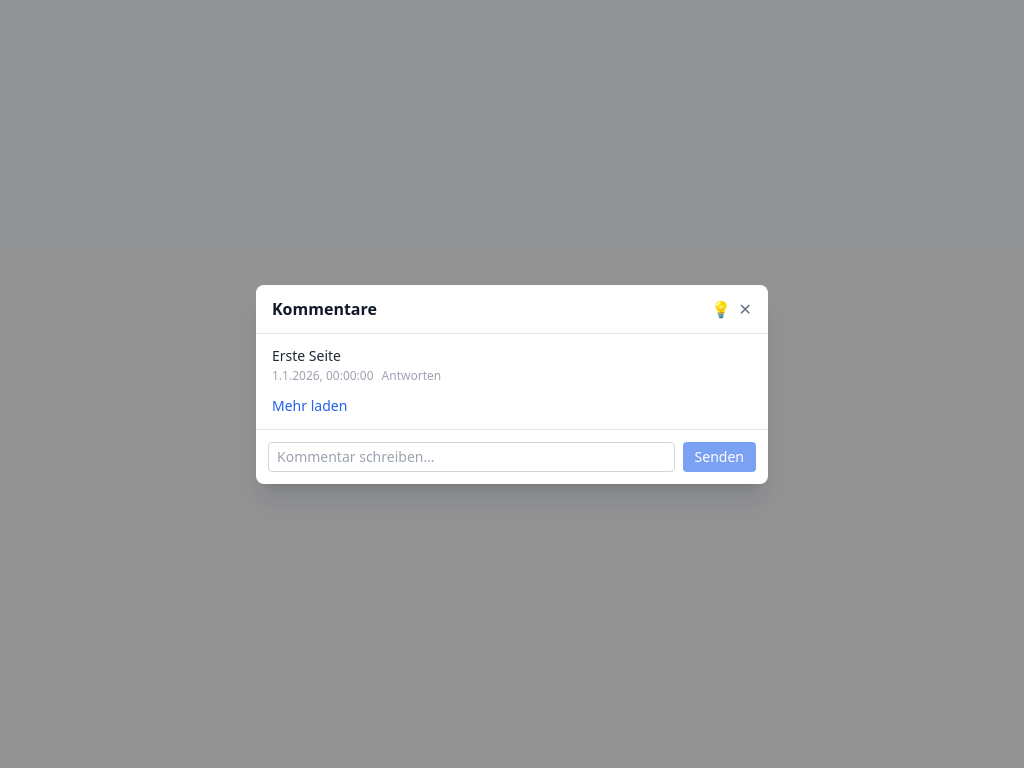
Scenario: CommentsModal › paginates via "Mehr laden", appending the second page
Expected: the text "Erste Seite" is shown, [272,346,341,364]
Expected: the text "Zweite Seite" is not shown
Click the button "Mehr laden".
click(310, 406)  # box [272,396,347,416]
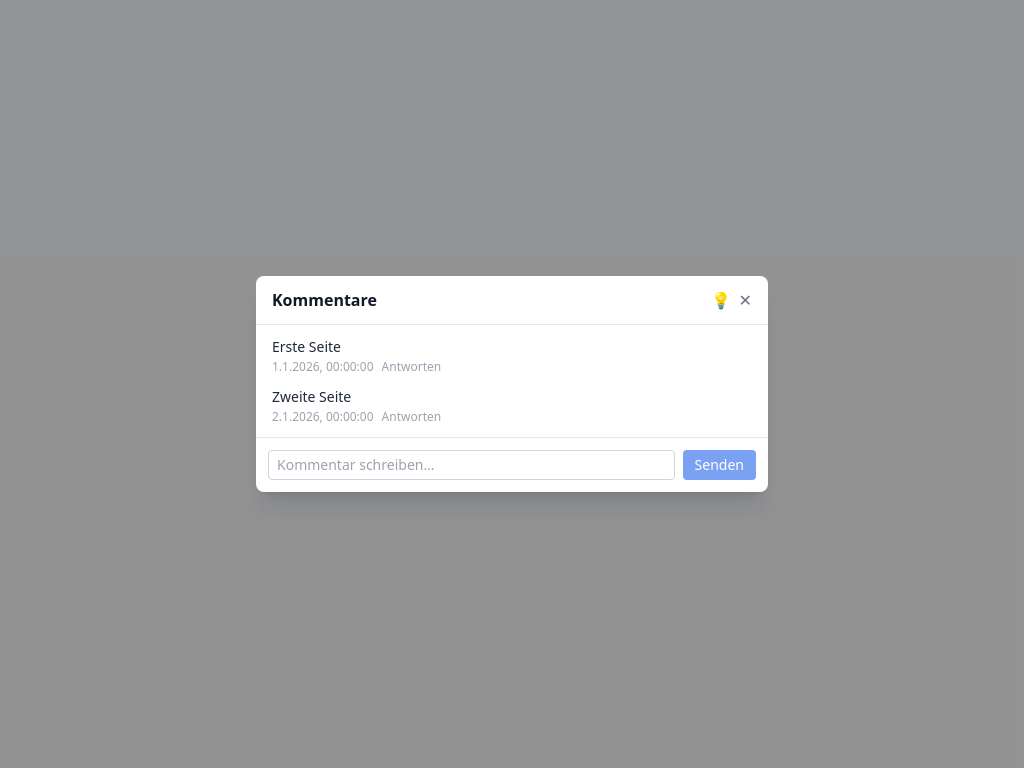
Expected: the text "Erste Seite" is shown, [272,337,341,356]
Now the text "Zweite Seite" is shown, box [272,387,351,406]
Now the button "Mehr laden" is gone
